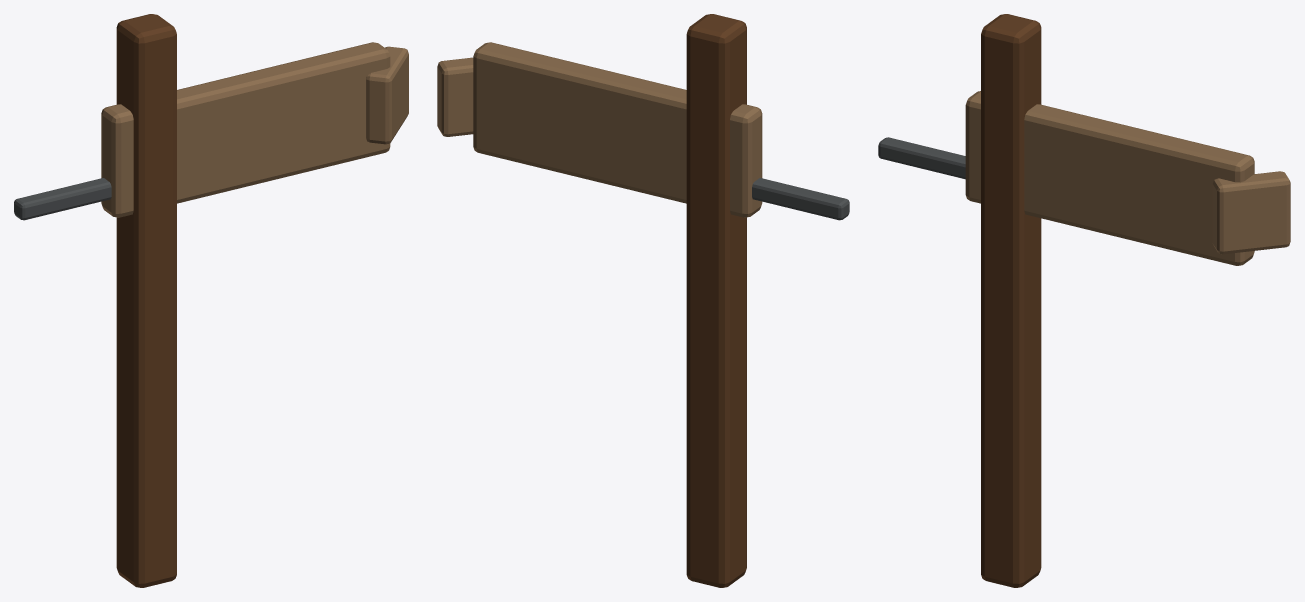
The model's file is signpost_2p2.glb.
3 renders of one model, left to right at view 1: azimuth 30°, elevation 25°; view 2: azimuth 150°, elevation 25°; view 3: azimuth 330°, elevation 25°, orthographic.
Visible parts, largest first — view 1: signpost_pole, signpost_board, signpost_arrow, signpost_hook; view 2: signpost_pole, signpost_board, signpost_arrow, signpost_hook; view 3: signpost_pole, signpost_board, signpost_arrow, signpost_hook.
Part boxes in pixels (bbox=[...]): signpost_pole: bbox=[116, 14, 176, 587]; signpost_board: bbox=[101, 42, 390, 217]; signpost_arrow: bbox=[366, 46, 408, 144]; signpost_hook: bbox=[14, 178, 111, 220]; signpost_pole: bbox=[686, 14, 746, 587]; signpost_board: bbox=[473, 42, 762, 217]; signpost_arrow: bbox=[437, 57, 473, 136]; signpost_hook: bbox=[752, 178, 849, 220]; signpost_pole: bbox=[981, 14, 1041, 587]; signpost_board: bbox=[965, 91, 1254, 265]; signpost_arrow: bbox=[1212, 171, 1290, 254]; signpost_hook: bbox=[878, 137, 965, 179].
Bounding box in the file's own units: 1.7 × 2.25 × 0.2521.
